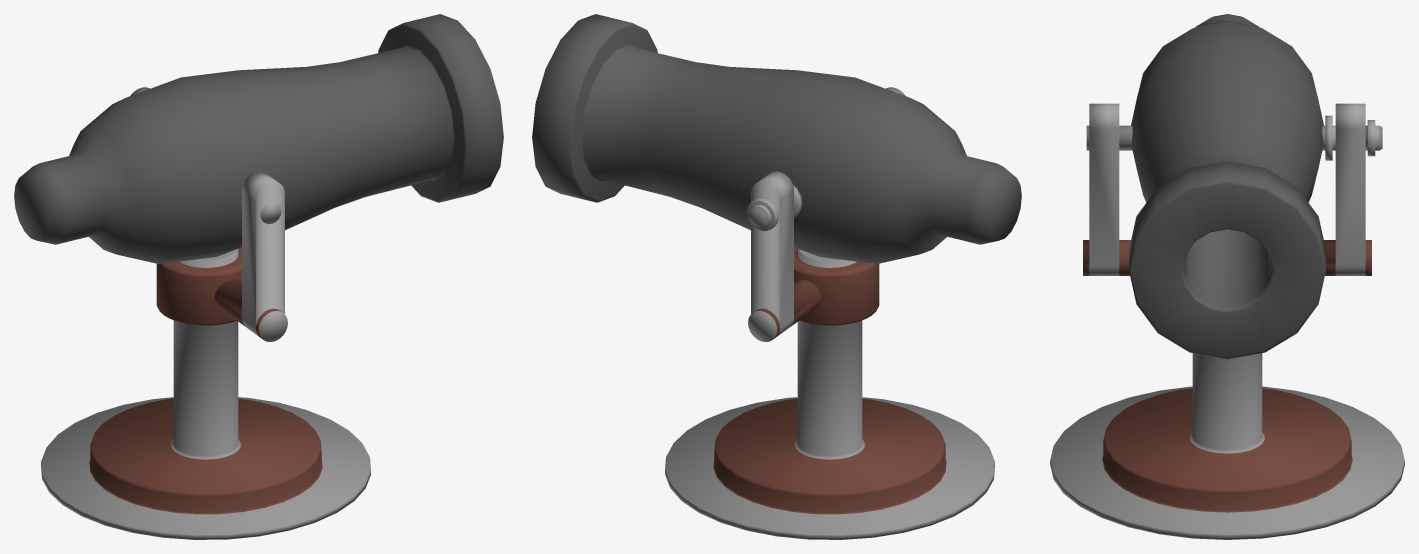
The model's file is Swivel Cannon Model.fbx.
3 renders of one model, left to right at view 1: azimuth 30°, elevation 25°; view 2: azimuth 150°, elevation 25°; view 3: azimuth 270°, elevation 25°, orthographic. The views are drawn at different scales.
Visible parts, largest first — view 1: Swivel Cannon Mesh; view 2: Swivel Cannon Mesh; view 3: Swivel Cannon Mesh.
Boxes of the visible parts, box(x1,y1,x2,y2) form: Swivel Cannon Mesh: box(14, 14, 503, 539); Swivel Cannon Mesh: box(532, 14, 1021, 539); Swivel Cannon Mesh: box(1050, 14, 1404, 539).
Bounding box in the file's own units: 1764 × 1528 × 1180.
